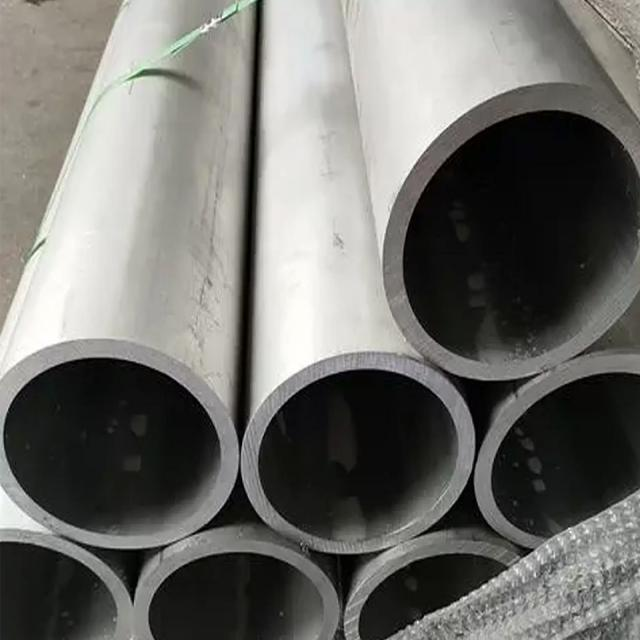pipe: (379, 81, 640, 380), (2, 341, 238, 550), (241, 353, 476, 554)
